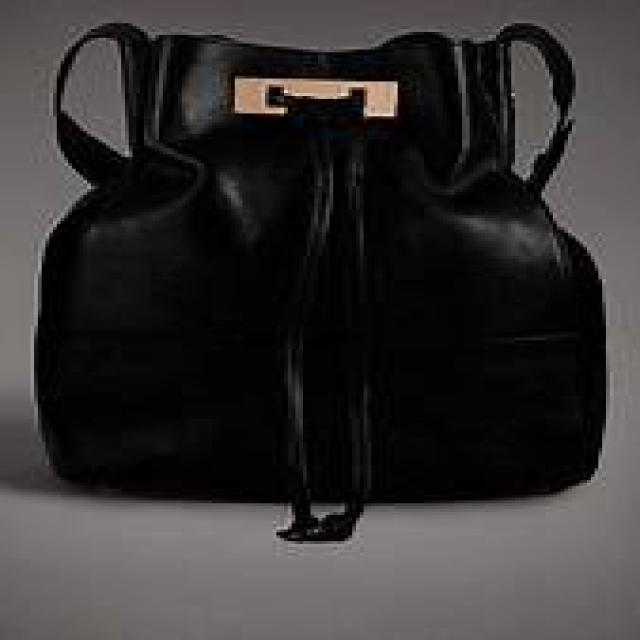backpack: (31, 19, 607, 539)
